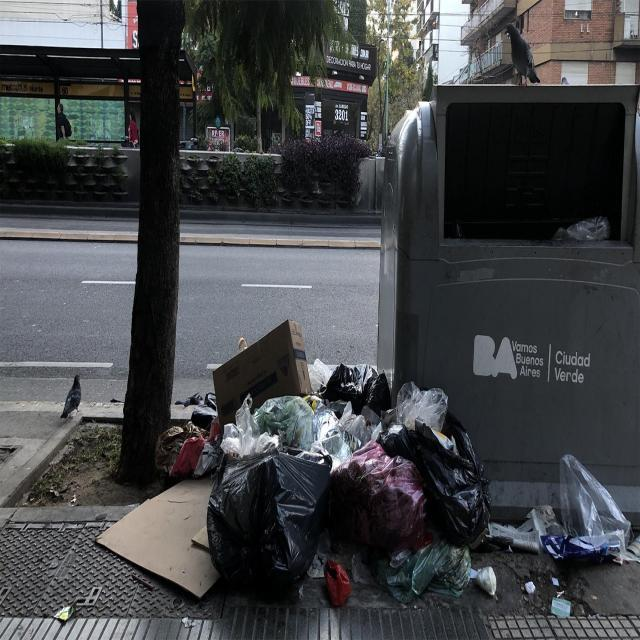garbage: (105, 303, 640, 622)
